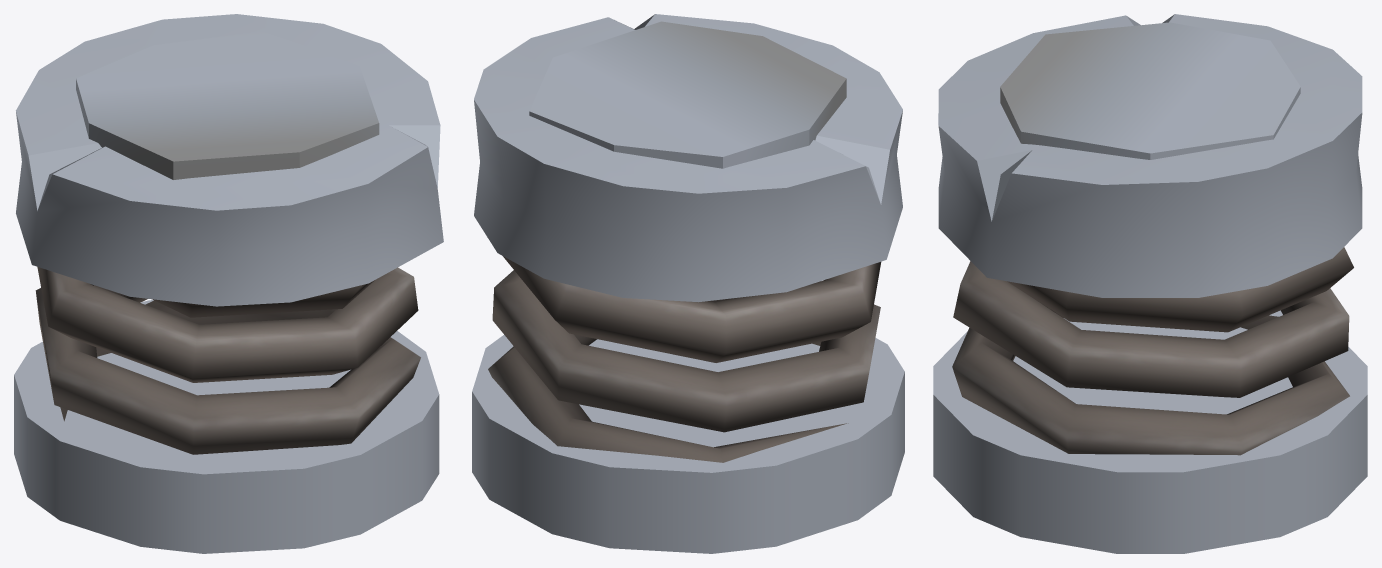
File: JumpSpring.fbx
The picture shows the model from 3 angles, left to right: view 1: azimuth 30°, elevation 25°; view 2: azimuth 150°, elevation 25°; view 3: azimuth 270°, elevation 25°; orthographic projection. The views are drawn at different scales.
Parts seen in each view (by area): view 1: Spring_Material #119_0, Spring_Material #119_0.002, Spring_Material #119_0.001; view 2: Spring_Material #119_0, Spring_Material #119_0.001, Spring_Material #119_0.002; view 3: Spring_Material #119_0, Spring_Material #119_0.001, Spring_Material #119_0.002.
Boxes of the visible parts, x1=… form: Spring_Material #119_0: x1=16, y1=14, x2=443, y2=306; Spring_Material #119_0.002: x1=14, y1=300, x2=439, y2=553; Spring_Material #119_0.001: x1=35, y1=267, x2=420, y2=454; Spring_Material #119_0: x1=474, y1=14, x2=902, y2=302; Spring_Material #119_0.001: x1=488, y1=256, x2=881, y2=462; Spring_Material #119_0.002: x1=472, y1=335, x2=904, y2=553; Spring_Material #119_0: x1=938, y1=14, x2=1362, y2=297; Spring_Material #119_0.001: x1=952, y1=247, x2=1353, y2=455; Spring_Material #119_0.002: x1=933, y1=310, x2=1367, y2=553.
Bounding box in the file's own units: 1.13 × 1.09 × 1.04.
